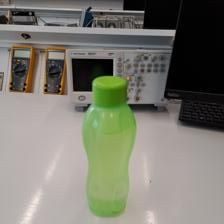bottle: (78, 72, 138, 220)
